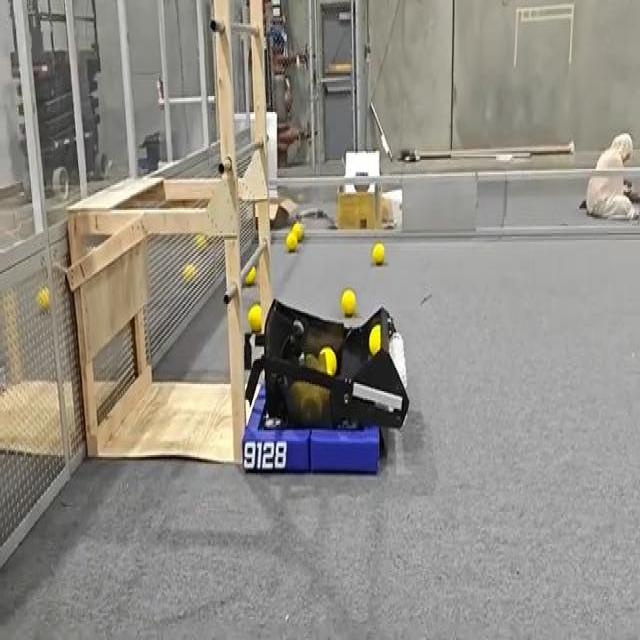Fuel: (320, 347, 337, 377), (319, 347, 336, 373), (341, 289, 356, 316), (247, 303, 261, 331), (369, 325, 382, 355), (247, 304, 261, 331), (341, 288, 355, 315), (369, 324, 380, 354), (36, 286, 49, 310), (37, 287, 50, 310), (372, 243, 385, 265), (373, 244, 385, 265), (182, 264, 196, 282), (285, 231, 297, 251), (291, 220, 303, 240), (244, 266, 256, 285), (286, 232, 297, 252), (182, 263, 195, 279), (245, 266, 255, 284), (196, 233, 207, 249), (294, 222, 303, 239), (195, 235, 207, 247)
